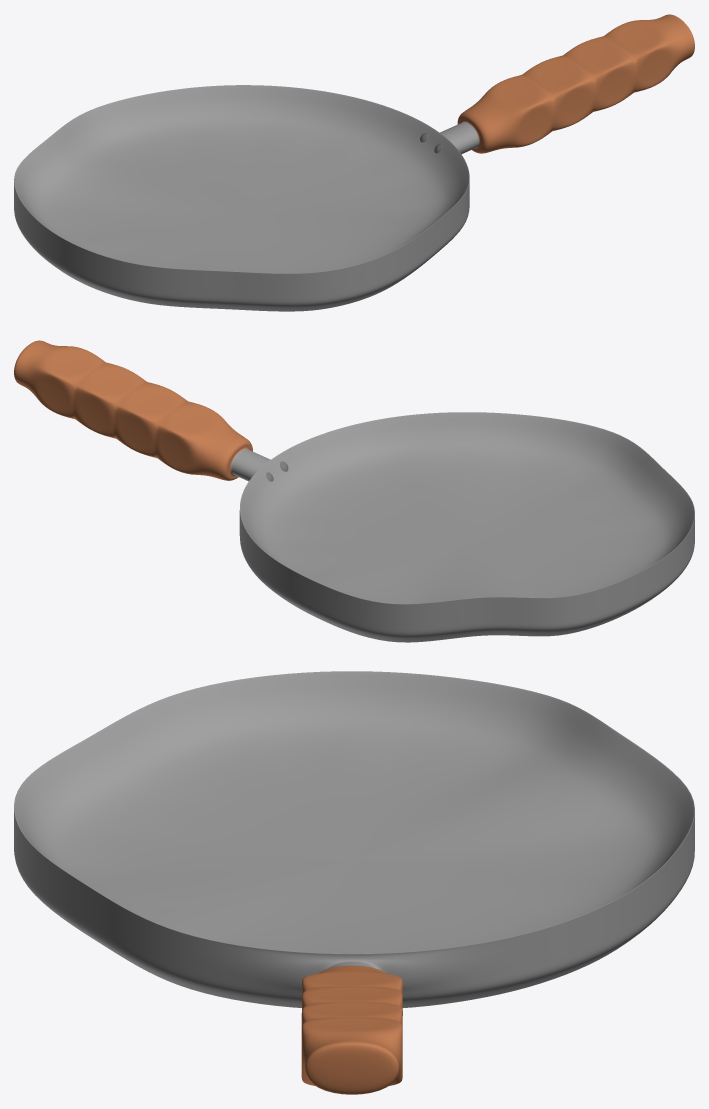
The model's file is fryingpan.fbx.
3 views of the same model, one above another, from view 1: azimuth 30°, elevation 25°; view 2: azimuth 150°, elevation 25°; view 3: azimuth 270°, elevation 25° (orthographic). The views are drawn at different scales.
Visible parts, largest first — view 1: Cylinder; view 2: Cylinder; view 3: Cylinder.
Part boxes in pixels (x1,y1,x2,y2): Cylinder: [14, 14, 694, 311]; Cylinder: [14, 340, 694, 642]; Cylinder: [14, 671, 694, 1094].
Size of the model in its own units: 102 by 16.17 by 64.02.
